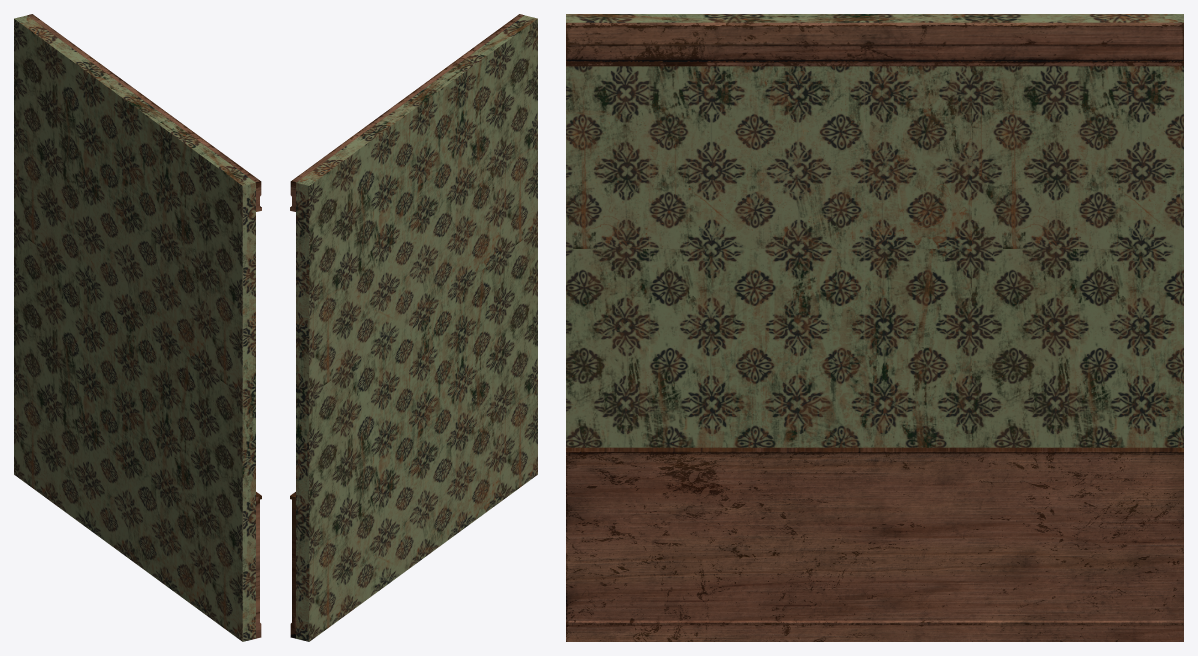
Rendered from Wall_3m_A.fbx.
The picture shows the model from 3 angles, left to right: view 1: azimuth 30°, elevation 25°; view 2: azimuth 150°, elevation 25°; view 3: azimuth 270°, elevation 25°; orthographic projection. The views are drawn at different scales.
Visible parts, largest first — view 1: Wall_3m_A; view 2: Wall_3m_A; view 3: Wall_3m_A.
Boxes of the visible parts, left/top/right/bottom form: Wall_3m_A: left=14, top=14, right=261, bottom=641; Wall_3m_A: left=290, top=14, right=537, bottom=641; Wall_3m_A: left=566, top=14, right=1183, bottom=641.
Bounding box in the file's own units: 0.1458 × 3 × 3.3.
2 materials, 2 textured.
